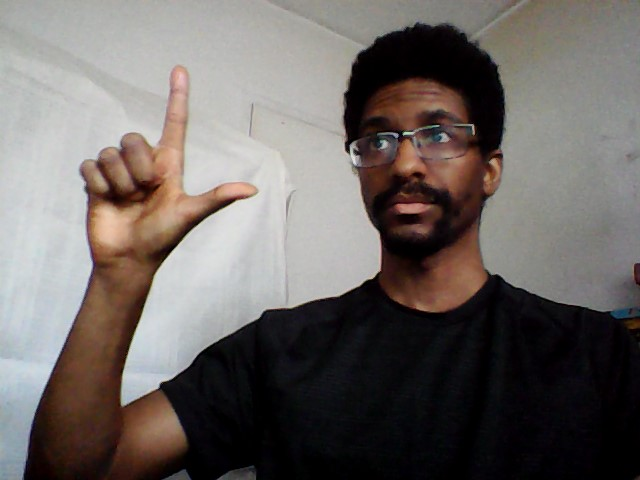l: (72, 61, 261, 267)
